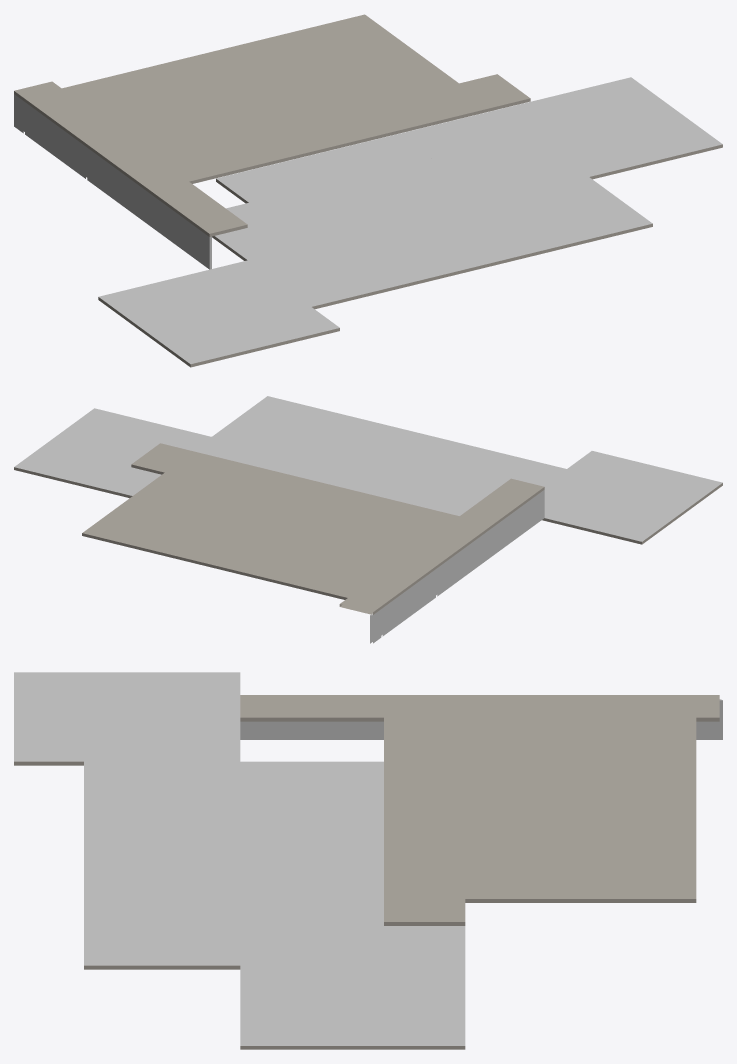
The model's file is Rejas Exteriores.fbx.
The picture shows the model from 3 angles, top to bottom: view 1: azimuth 30°, elevation 25°; view 2: azimuth 150°, elevation 25°; view 3: azimuth 270°, elevation 25°; orthographic projection. The views are drawn at different scales.
Parts seen in each view (by area): view 1: Exterior_004, Facilities_003, Exterior_003, Exterior_005, Exterior_002, Exterior_002_1, Paredes_109, Circulation_006, Exterior_001; view 2: Facilities_003, Exterior_004, Exterior_003, Exterior_005, Exterior_002, Paredes_109, Circulation_006, Exterior_001; view 3: Exterior_004, Facilities_003, Exterior_003, Exterior_005, Exterior_002, Circulation_006, Exterior_001, Paredes_109, Exterior_002_1.
Boxes of the visible parts, x1,y1,x2,y2 form: Exterior_004: [212, 134, 652, 309]; Facilities_003: [62, 14, 458, 183]; Exterior_003: [98, 260, 339, 367]; Exterior_005: [498, 77, 722, 179]; Exterior_002: [216, 74, 530, 169]; Exterior_002_1: [216, 110, 529, 203]; Paredes_109: [14, 94, 211, 269]; Circulation_006: [14, 81, 188, 193]; Exterior_001: [151, 181, 247, 236]; Facilities_003: [82, 472, 459, 599]; Exterior_004: [160, 396, 566, 515]; Exterior_003: [542, 451, 722, 544]; Exterior_005: [14, 408, 211, 498]; Exterior_002: [131, 443, 406, 524]; Paredes_109: [370, 490, 544, 643]; Circulation_006: [339, 516, 493, 614]; Exterior_001: [460, 478, 544, 526]; Exterior_004: [84, 761, 383, 969]; Facilities_003: [384, 717, 696, 902]; Exterior_003: [14, 672, 240, 765]; Exterior_005: [240, 965, 465, 1049]; Exterior_002: [384, 753, 465, 925]; Circulation_006: [384, 695, 719, 721]; Exterior_001: [240, 695, 383, 721]; Paredes_109: [240, 699, 722, 739]; Exterior_002_1: [384, 926, 465, 965].
Size of the model in its own units: 8117 by 484 by 6509.
